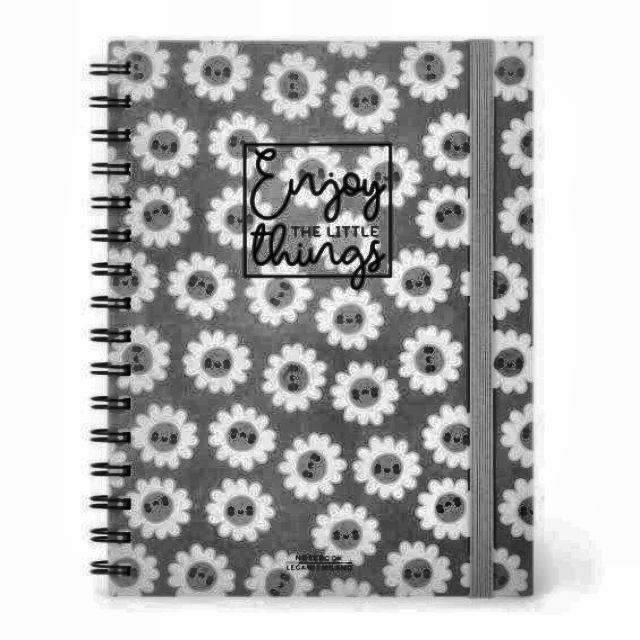Notebook: (70, 12, 550, 624)
